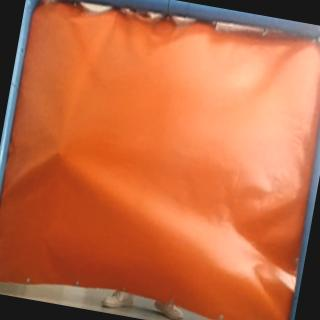Hit-hRxx: (50, 144, 68, 162)
